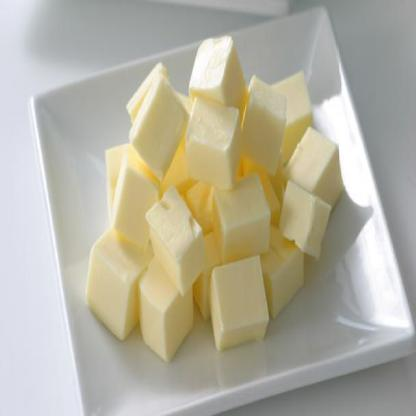butter: (84, 226, 148, 335), (138, 257, 193, 362), (208, 175, 272, 265), (207, 259, 269, 348), (131, 76, 186, 176), (151, 192, 203, 294), (184, 91, 237, 190), (287, 123, 342, 218), (238, 74, 286, 178), (192, 38, 247, 124), (257, 225, 303, 317), (111, 154, 157, 243), (280, 182, 326, 264)
